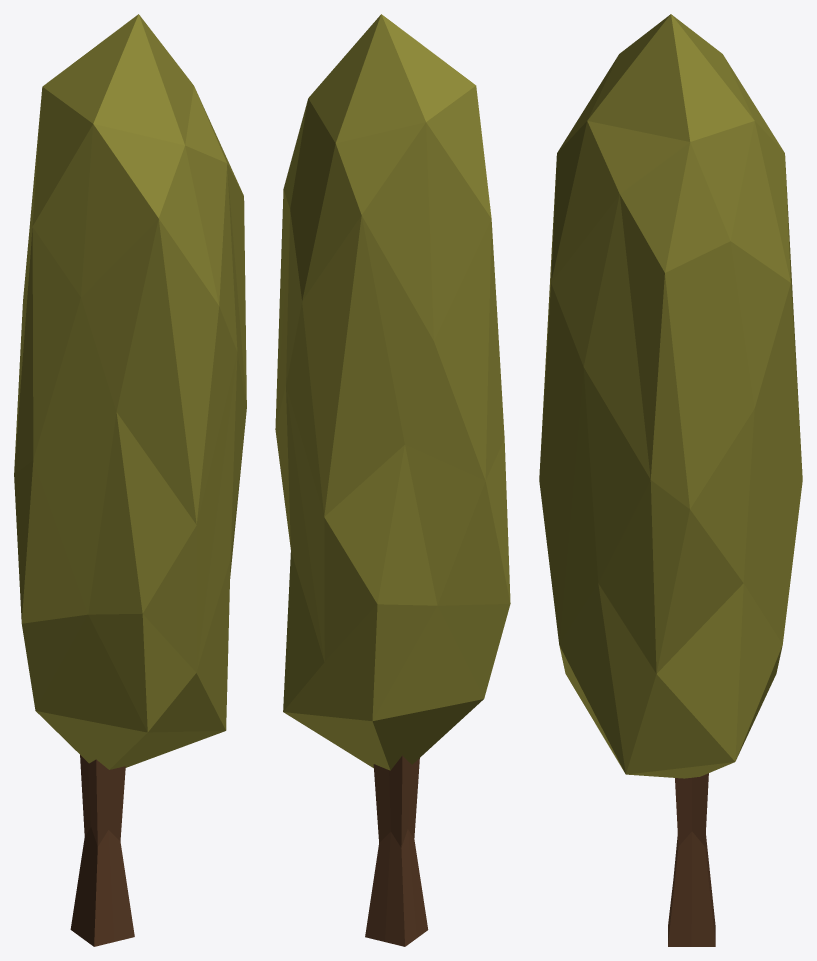
File: Tree_50_Yellow.fbx
3 views of the same model, side by side, from view 1: azimuth 30°, elevation 25°; view 2: azimuth 150°, elevation 25°; view 3: azimuth 270°, elevation 25° (orthographic). The views are drawn at different scales.
Parts seen in each view (by area): view 1: Tree_50_Yellow_Part_1, Tree_50_Yellow_Part_2; view 2: Tree_50_Yellow_Part_1, Tree_50_Yellow_Part_2; view 3: Tree_50_Yellow_Part_1, Tree_50_Yellow_Part_2.
Boxes of the visible parts, x1,y1,x2,y2 form: Tree_50_Yellow_Part_1: (14,14,246,769); Tree_50_Yellow_Part_2: (70,755,134,946); Tree_50_Yellow_Part_1: (275,14,510,770); Tree_50_Yellow_Part_2: (365,755,428,946); Tree_50_Yellow_Part_1: (539,14,802,778); Tree_50_Yellow_Part_2: (668,773,715,946).
Size of the model in its own units: 208 by 810 by 207.
